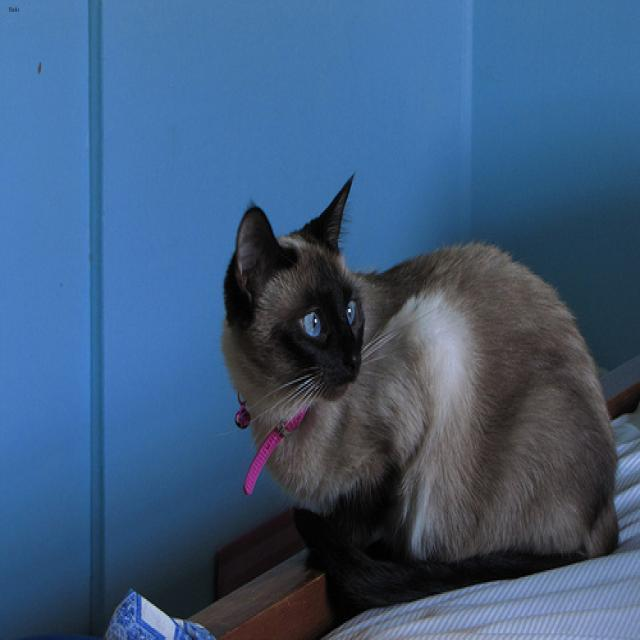Siamese: (225, 167, 369, 401)
